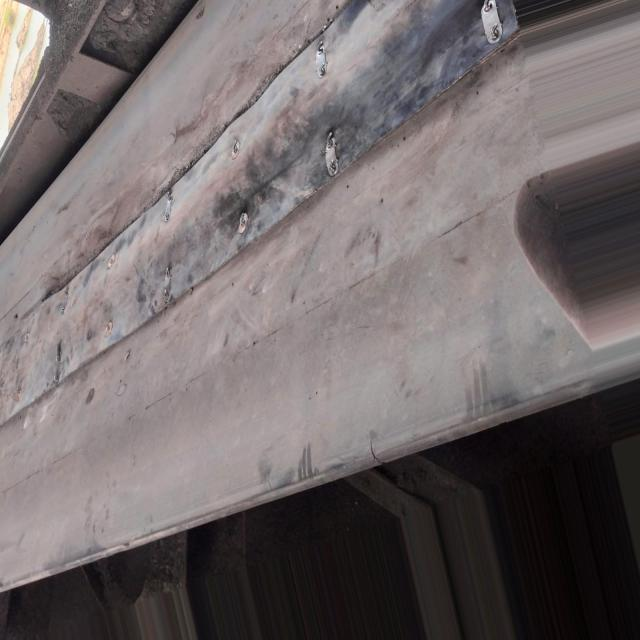patch work: (0, 0, 534, 435)
